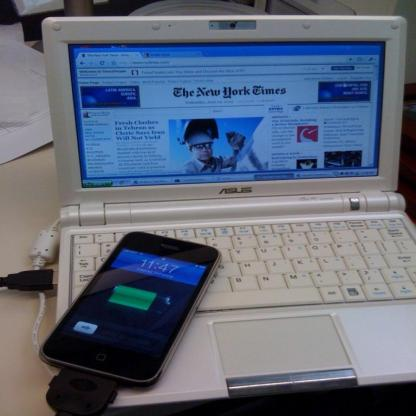board: (43, 17, 416, 408)
